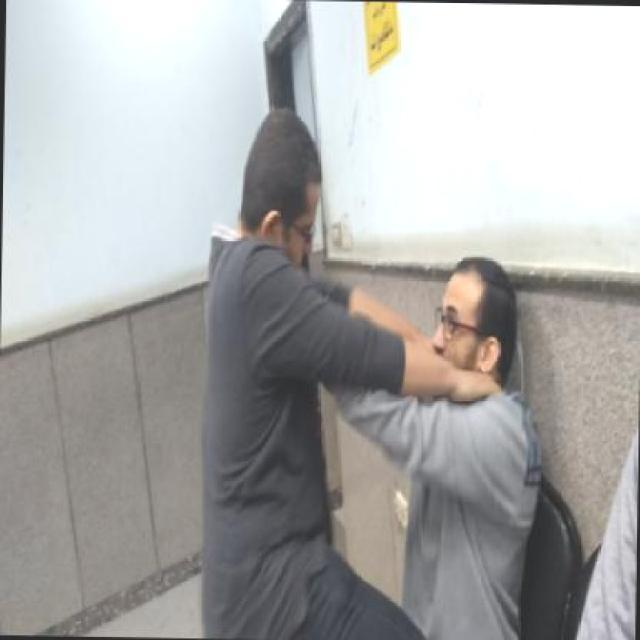fight: (197, 106, 545, 639)
